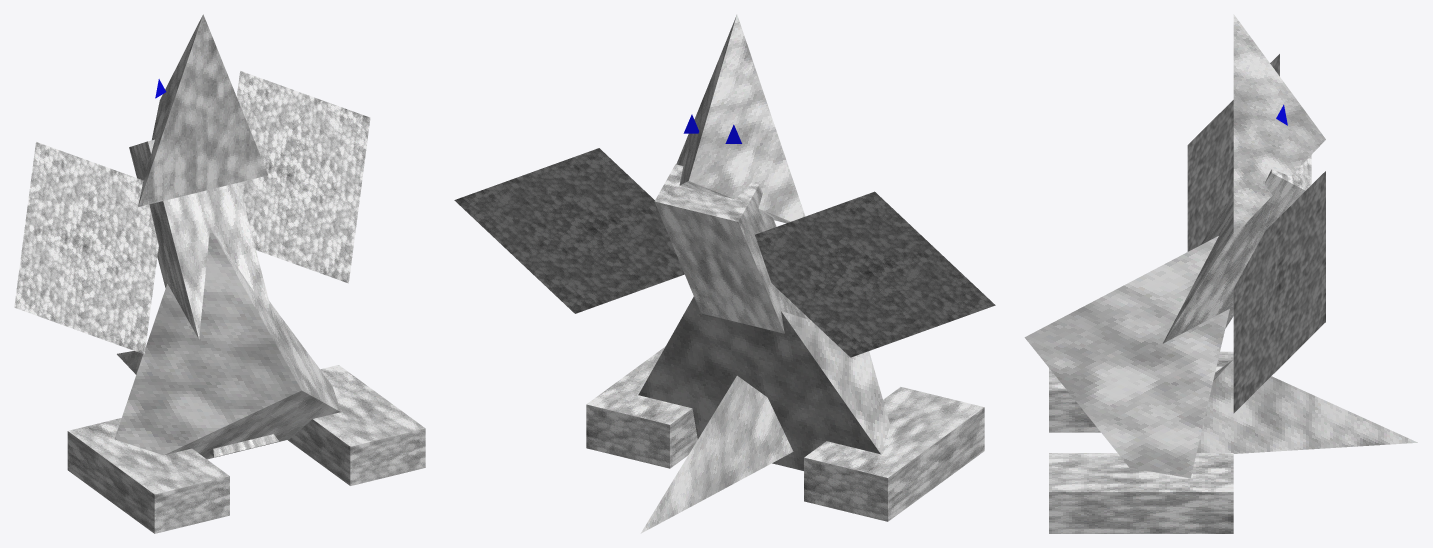
File: wind_dragon_body.glb
3 views of the same model, side by side, from view 1: azimuth 30°, elevation 25°; view 2: azimuth 150°, elevation 25°; view 3: azimuth 270°, elevation 25° (orthographic). The views are drawn at different scales.
Parts seen in each view (by area): view 1: Cone.001; view 2: Cone.001; view 3: Cone.001.
Boxes of the visible parts, x1,y1,x2,y2 form: Cone.001: [14, 14, 425, 533]; Cone.001: [454, 14, 995, 533]; Cone.001: [1024, 14, 1417, 533].
Size of the model in its own units: 5.6 by 5.37 by 4.27.
2 materials, 1 textured.
